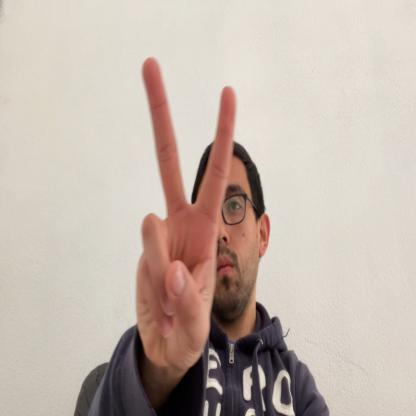V: (136, 57, 236, 378)
